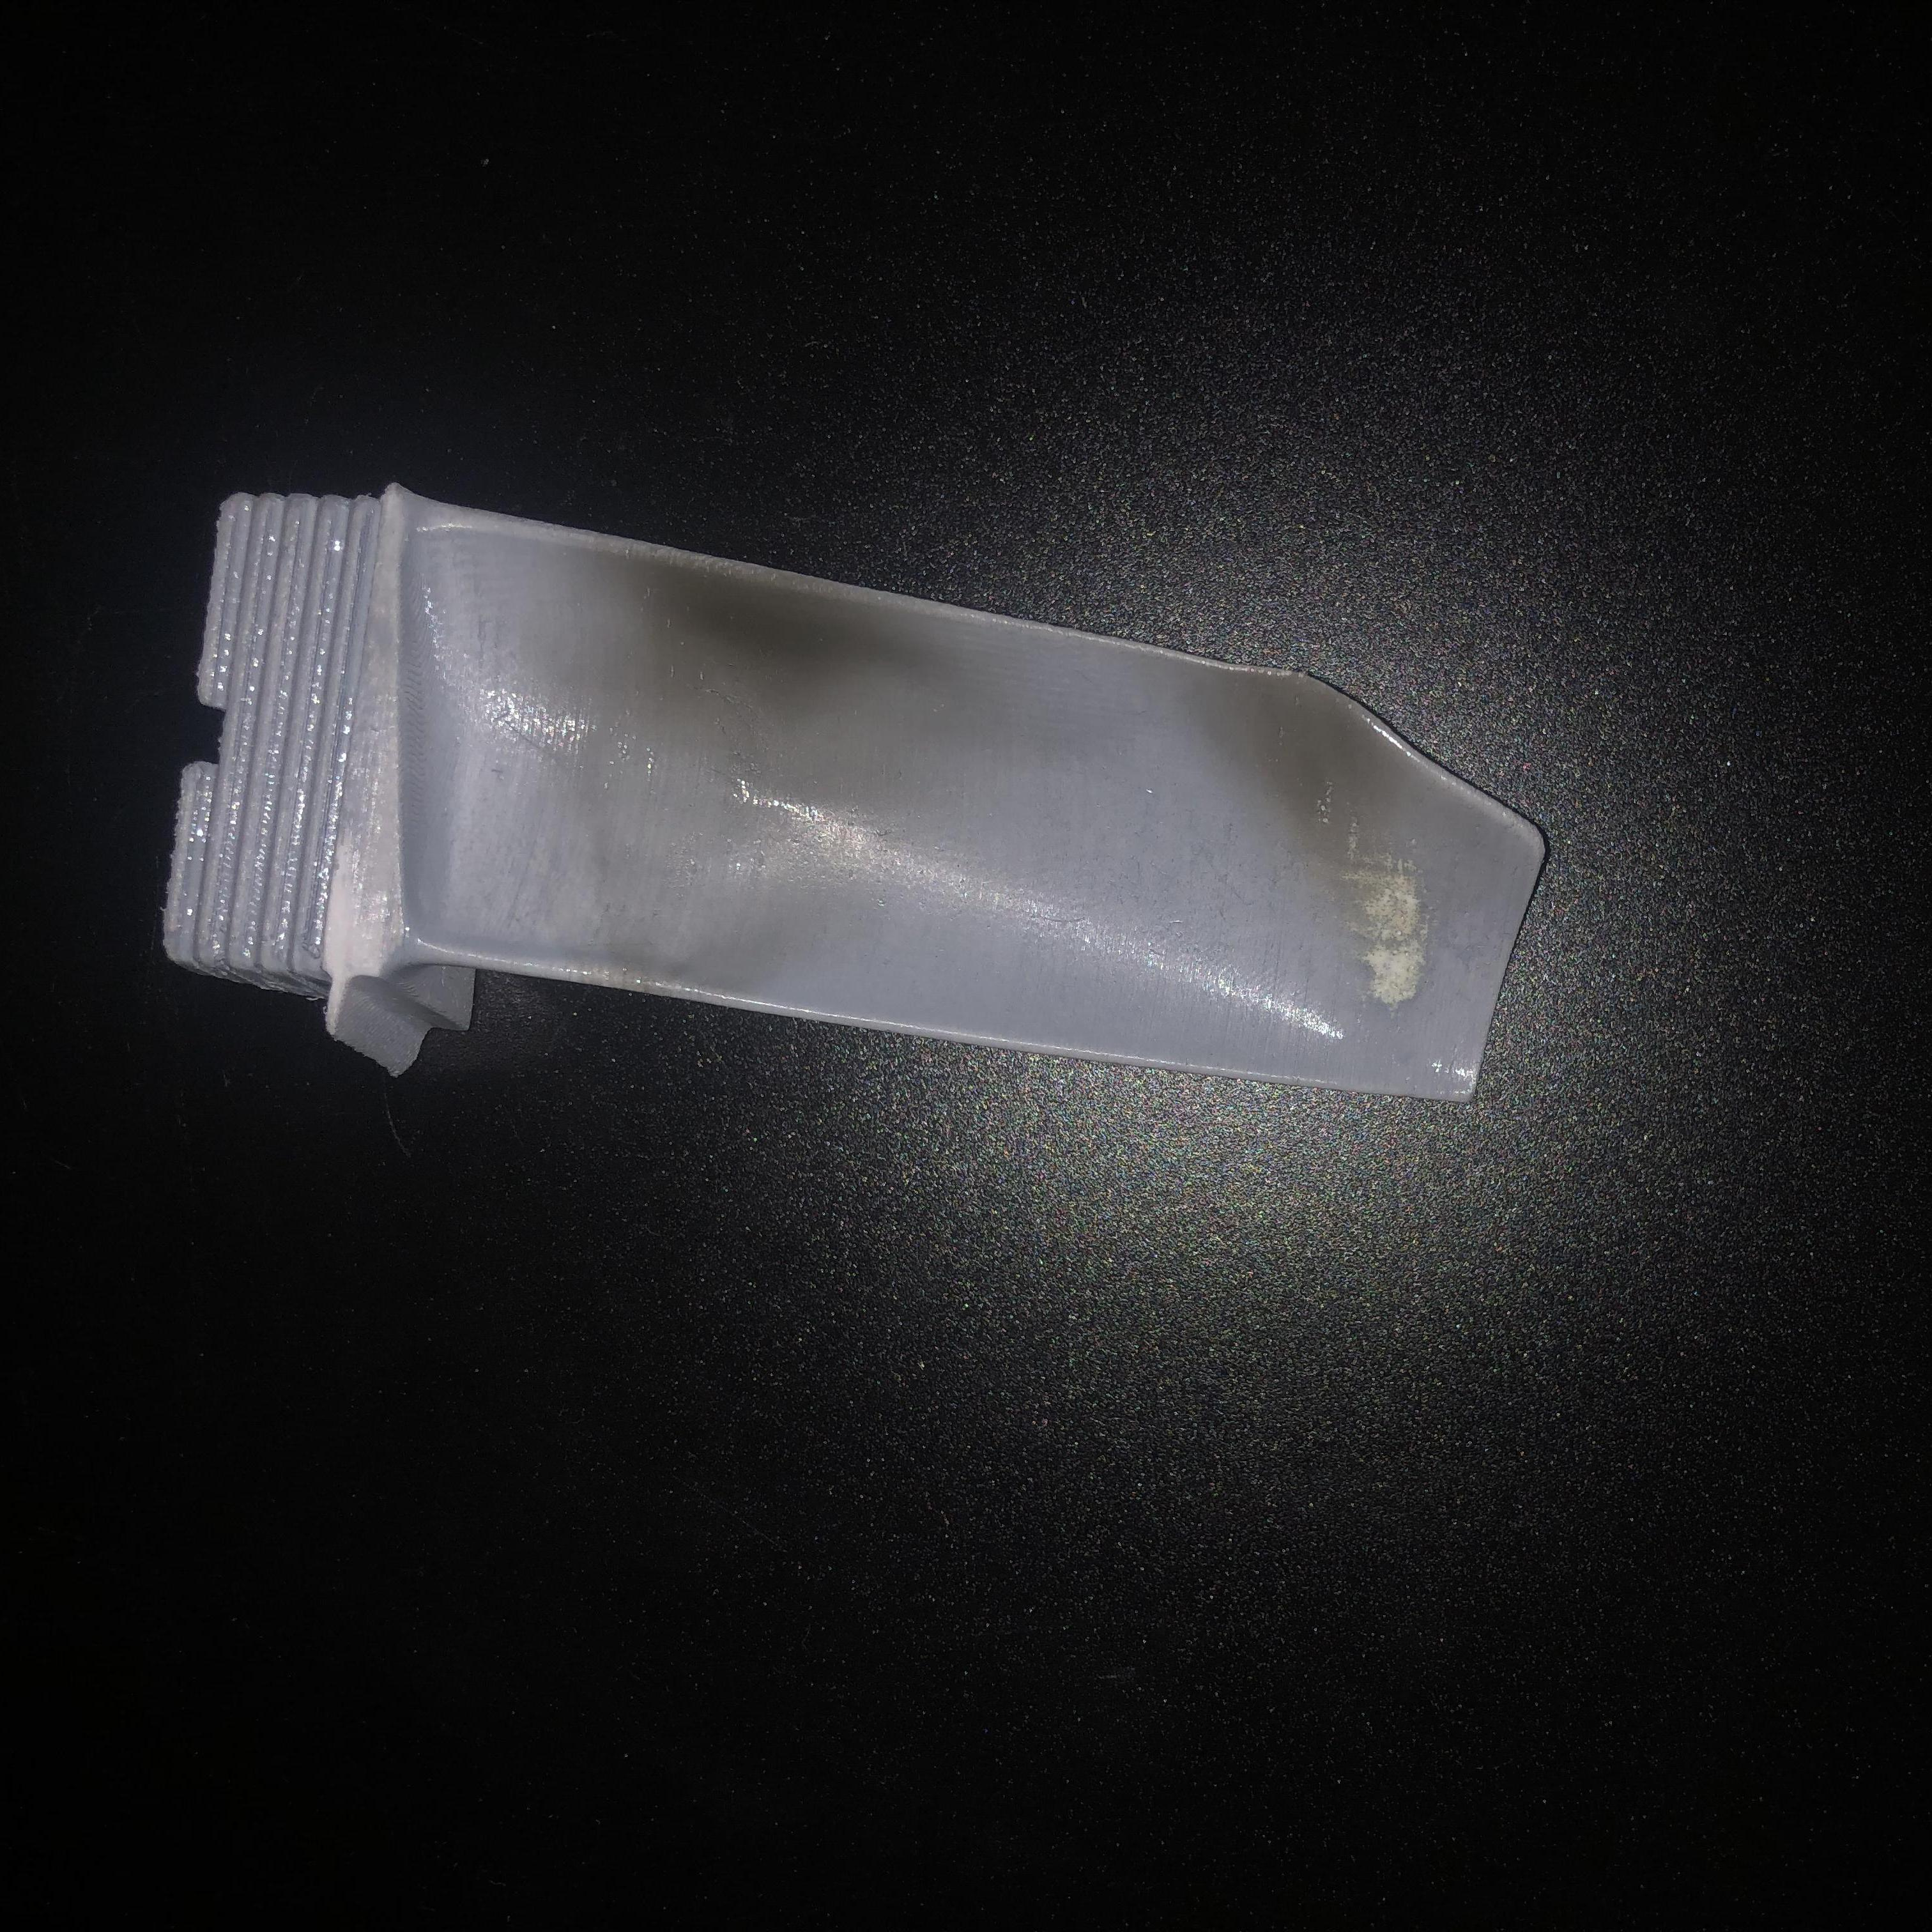ablation: (575, 534, 964, 878), (1205, 663, 1460, 989)
